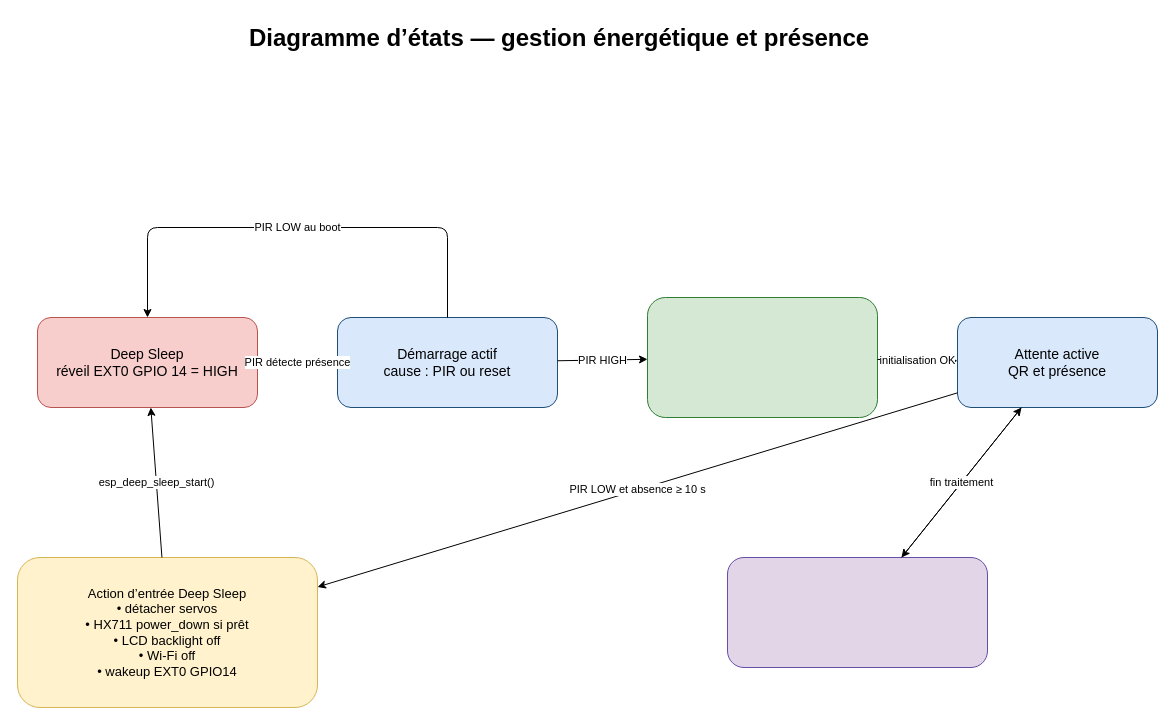
Image size: 1175x725. Some labels were removed from this diagram. Each missing label, with the centre of its shape:
"Initialisation caméra, LCD, Wi-Fi, Firebase, HX711, QR task" belongs at (x=762, y=357).
"Traitement interaction busy = true rôle Firebase, servo, poids" belongs at (x=857, y=612).
